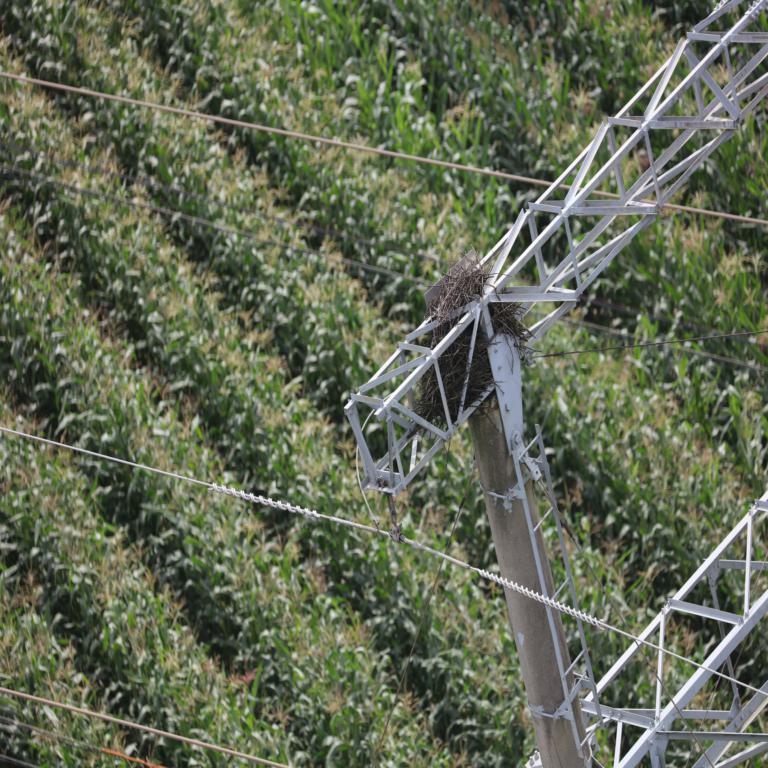nest: (417, 276, 510, 417)
